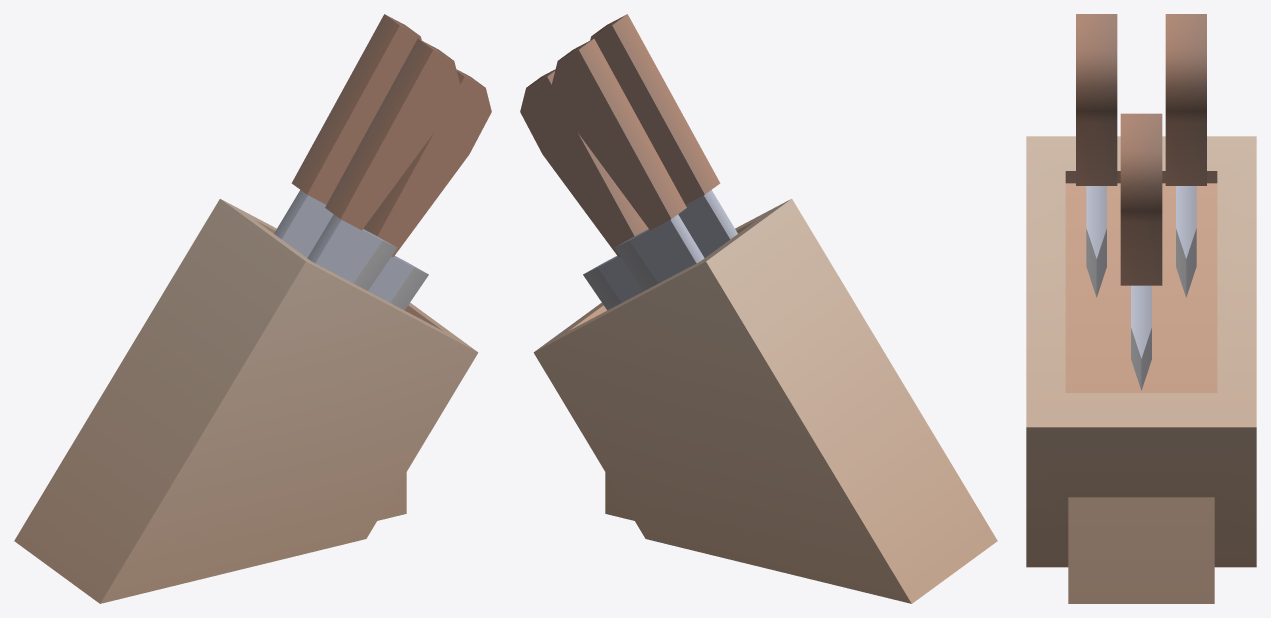
Rendered from knife-block.glb.
The picture shows the model from 3 angles, left to right: view 1: azimuth 30°, elevation 25°; view 2: azimuth 150°, elevation 25°; view 3: azimuth 270°, elevation 25°; orthographic projection. The views are drawn at different scales.
Parts seen in each view (by area): view 1: knife-block; view 2: knife-block; view 3: knife-block.
Boxes of the visible parts, x1,y1,x2,y2 form: knife-block: (14,14,491,603); knife-block: (520,14,997,603); knife-block: (1026,14,1256,603).
Size of the model in its own units: 0.6359 by 0.6624 by 0.2218.
